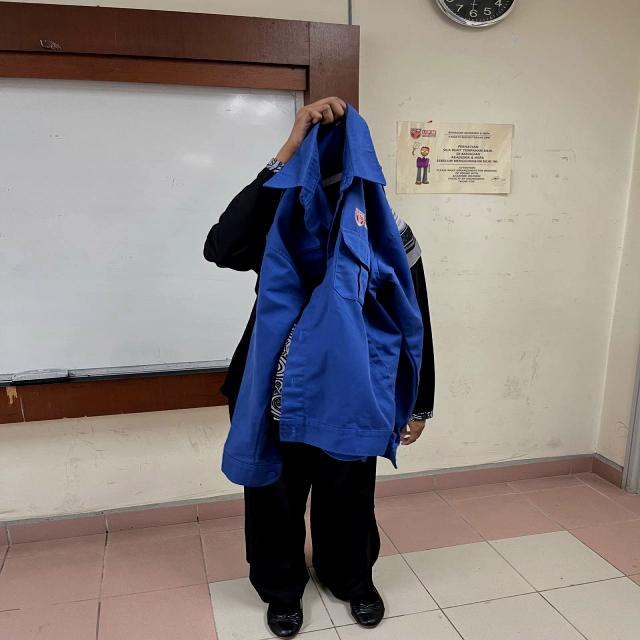person_without_labcoat: (203, 97, 434, 638)
